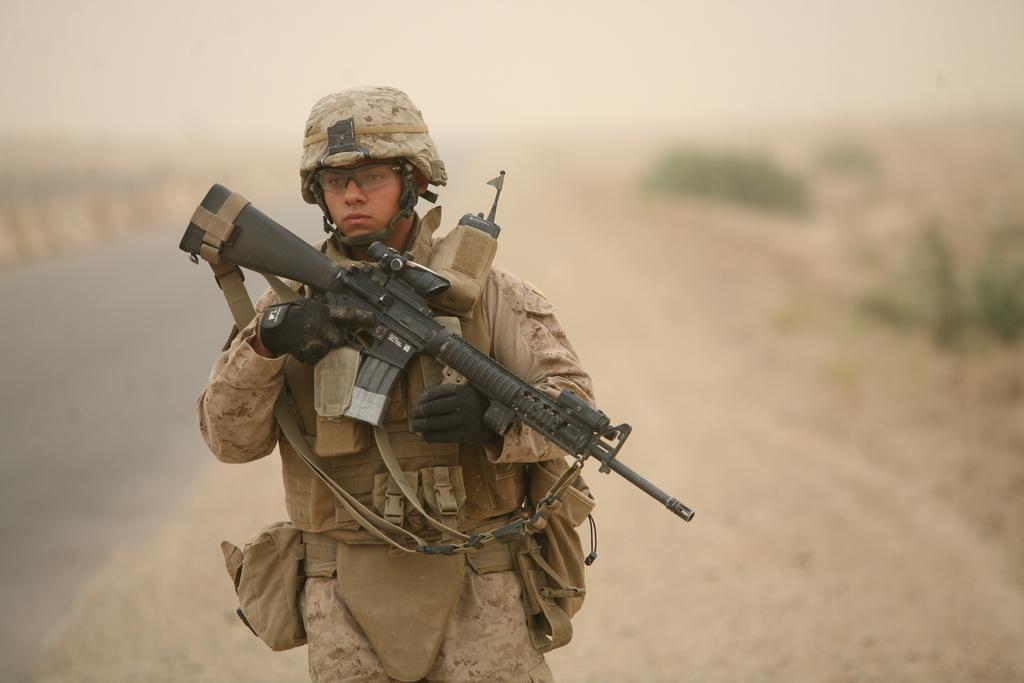gun: (172, 184, 696, 523)
